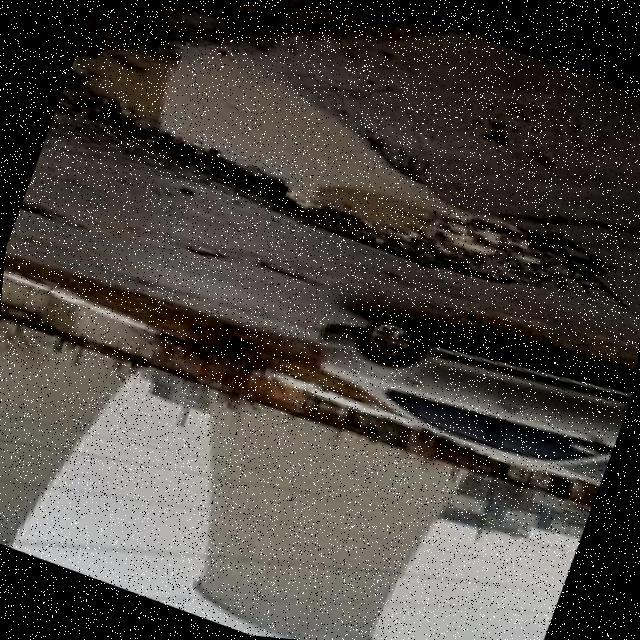Pothole: (72, 41, 604, 291)
